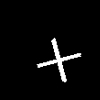single_crochet: (37, 38, 80, 81)
